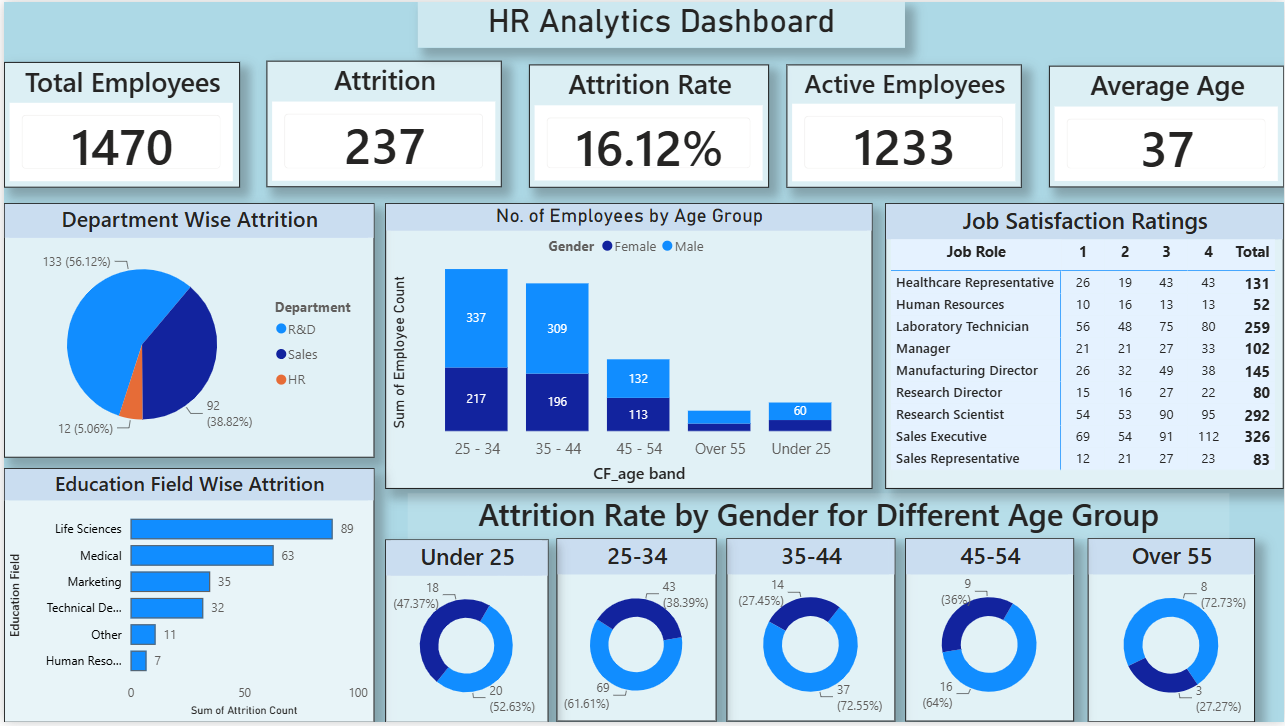

The page's visual inventory and layout, read from the dashboard file:
{"tool":"powerbi","page":{"name":"Page 1","canvas":[1280,720],"ordinal":0},"visuals":[{"type":"cardVisual","title":"Total Employees","fields":{"Data":["Sum(HR data.Employee Count)"]},"box":[0,60,235.7,125.7],"z":0},{"type":"cardVisual","title":"Attrition","fields":{"Data":["Sum(HR data.Attrition Count)"]},"box":[263,59.1,235.3,126.7],"z":1000},{"type":"cardVisual","title":"Attrition Rate","fields":{"Data":["HR data.Attrition Rate"]},"box":[524.8,62.7,240.1,123.1],"z":2000},{"type":"cardVisual","title":"Active Employees","fields":{"Data":["HR data.Active Employee"]},"box":[783,62.7,235.3,123.1],"z":3000},{"type":"cardVisual","title":"Average Age","fields":{"Data":["Avg(HR data.Age)"]},"box":[1044.8,63.9,235.3,121.9],"z":4000},{"type":"pieChart","title":"Department Wise Attrition ","fields":{"Category":["HR data.Department"],"Y":["Sum(HR data.Attrition Count)"]},"box":[0,201.4,370,254.3],"z":5000},{"type":"columnChart","title":"No. of Employees by Age Group","fields":{"Category":["HR data.CF_age band"],"Y":["Sum(HR data.Employee Count)"],"Series":["HR data.Gender"]},"box":[381.4,201.4,487.1,285.7],"z":6000},{"type":"pivotTable","title":"Job Satisfaction Ratings","fields":{"Rows":["HR data.Job Role"],"Columns":["HR data.Job Satisfaction"],"Values":["Sum(HR data.Employee Count)"]},"box":[881.4,201.4,398.6,285.7],"z":7000},{"type":"barChart","title":"Education Field Wise Attrition ","fields":{"Category":["HR data.Education Field"],"Y":["Sum(HR data.Attrition Count)"]},"box":[0,465.7,370,254.3],"z":8000},{"type":"donutChart","title":"Over 55","fields":{"Category":["HR data.Gender"],"Y":["Sum(HR data.Attrition Count)"],"Series":["HR data.CF_age band"]},"box":[1084.3,535.7,167.1,184.3],"z":9000},{"type":"textbox","title":"HR Analytics Dashboard","box":[413.8,0,487.4,45.8],"z":10000},{"type":"donutChart","title":"35-44","fields":{"Category":["HR data.Gender"],"Y":["Sum(HR data.Attrition Count)"],"Series":["HR data.CF_age band"]},"box":[722.9,535.7,168.6,182.9],"z":11000},{"type":"donutChart","title":"45-54","fields":{"Category":["HR data.Gender"],"Y":["Sum(HR data.Attrition Count)"],"Series":["HR data.CF_age band"]},"box":[901.4,535.7,168.6,182.9],"z":12000},{"type":"donutChart","title":"25-34","fields":{"Category":["HR data.Gender"],"Y":["Sum(HR data.Attrition Count)"],"Series":["HR data.CF_age band"]},"box":[552.9,535.7,160,182.9],"z":13000},{"type":"donutChart","title":"Under 25","fields":{"Category":["HR data.Gender"],"Y":["Sum(HR data.Attrition Count)"],"Series":["HR data.CF_age band"]},"box":[381.4,537.1,162.9,182.9],"z":14000},{"type":"textbox","title":"Attrition Rate by Gender for Different Age Group","box":[404.3,491.4,821.4,45.7],"z":15000}]}

Visuals, with their boxes in screenshot pixels (x1, y1, x2, y2), scaled from the page's 1280x720 canvas onto the 1285x726 screenshot:
"Total Employees" cardVisual: BBox(0, 60, 237, 187)
"Attrition" cardVisual: BBox(264, 60, 500, 187)
"Attrition Rate" cardVisual: BBox(527, 63, 768, 187)
"Active Employees" cardVisual: BBox(786, 63, 1022, 187)
"Average Age" cardVisual: BBox(1049, 64, 1284, 187)
"Department Wise Attrition " pieChart: BBox(0, 203, 371, 459)
"No. of Employees by Age Group" columnChart: BBox(383, 203, 872, 491)
"Job Satisfaction Ratings" pivotTable: BBox(885, 203, 1284, 491)
"Education Field Wise Attrition " barChart: BBox(0, 470, 371, 725)
"Over 55" donutChart: BBox(1089, 540, 1256, 725)
"HR Analytics Dashboard" textbox: BBox(415, 0, 905, 46)
"35-44" donutChart: BBox(726, 540, 895, 725)
"45-54" donutChart: BBox(905, 540, 1074, 725)
"25-34" donutChart: BBox(555, 540, 716, 725)
"Under 25" donutChart: BBox(383, 542, 546, 725)
"Attrition Rate by Gender for Different Age Group" textbox: BBox(406, 495, 1230, 542)
